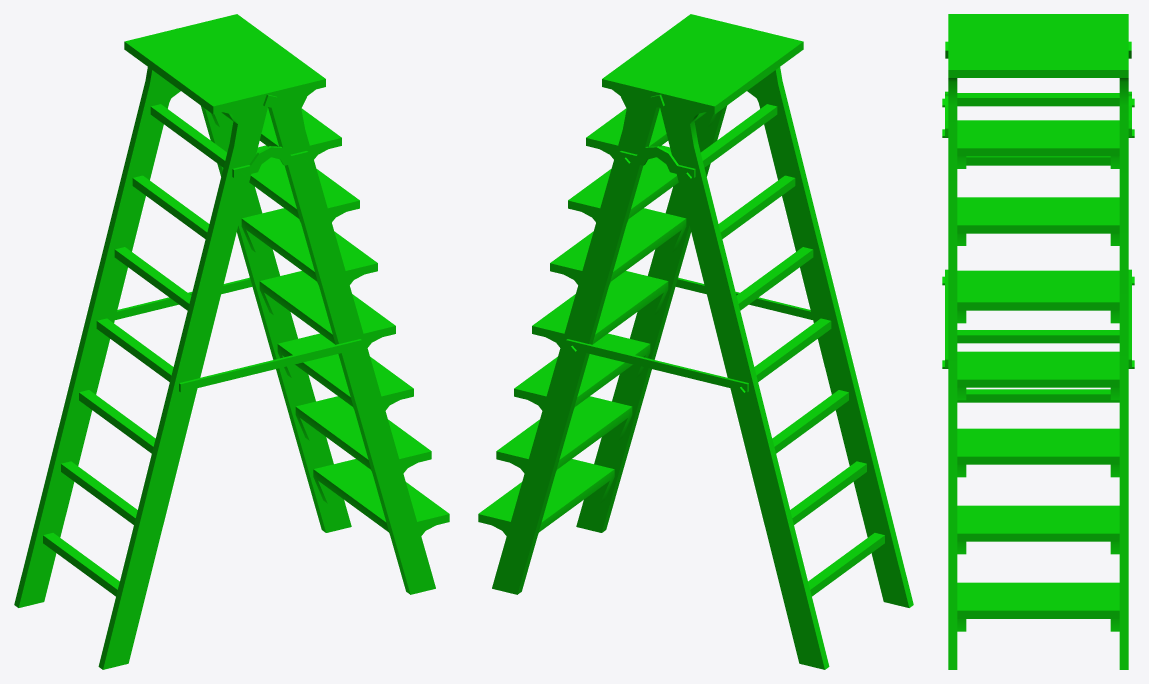
The picture shows the model from 3 angles, left to right: view 1: azimuth 30°, elevation 25°; view 2: azimuth 150°, elevation 25°; view 3: azimuth 270°, elevation 25°; orthographic projection.
Parts seen in each view (by area): view 1: G:\FFXIV-MapTools\exports\f1f2\bg\ffxiv\fst_f1\fld\f1f2\bgpa; view 2: G:\FFXIV-MapTools\exports\f1f2\bg\ffxiv\fst_f1\fld\f1f2\bgpa; view 3: G:\FFXIV-MapTools\exports\f1f2\bg\ffxiv\fst_f1\fld\f1f2\bgpa.
Part boxes in pixels (<box>): G:\FFXIV-MapTools\exports\f1f2\bg\ffxiv\fst_f1\fld\f1f2\bgpa: <box>14,14,449,669</box>; G:\FFXIV-MapTools\exports\f1f2\bg\ffxiv\fst_f1\fld\f1f2\bgpa: <box>478,14,913,669</box>; G:\FFXIV-MapTools\exports\f1f2\bg\ffxiv\fst_f1\fld\f1f2\bgpa: <box>942,14,1134,669</box>.
Bounding box in the file's own units: 2.06 × 3 × 0.96.
